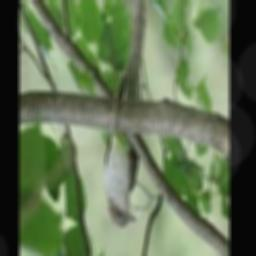Cuckoo: (103, 0, 145, 227)
